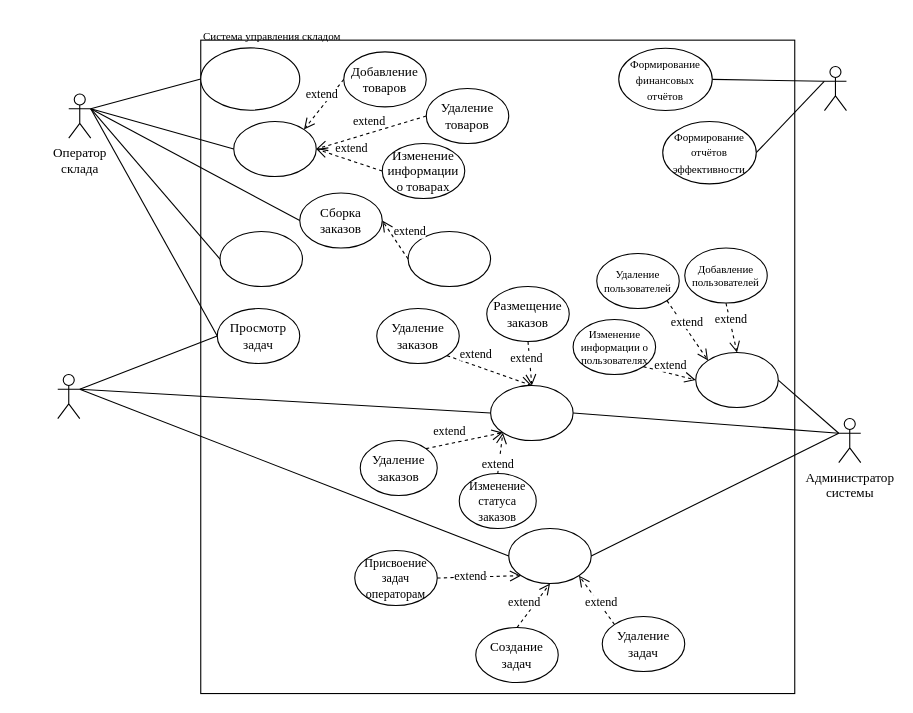
The diagram is 913 pixels wide and 713 high, and some of its shapes have lost their labels. Here are the shapes that lost their labels. From the top down, the centre of each, then its label:
At (250,78): "Просмотр отчётов эффективности".
At (834,88): "Работник бухгалтерии".
At (274,148): "Управление товарами".
At (260,258): "Проверка наличия товаров".
At (449,258): "Изменение статуса заказа".
At (68,396): "Менеджер склада".
At (736,379): "Управление пользователями".
At (531,412): "Управление заказами".
At (549,555): "Управление задачами".
